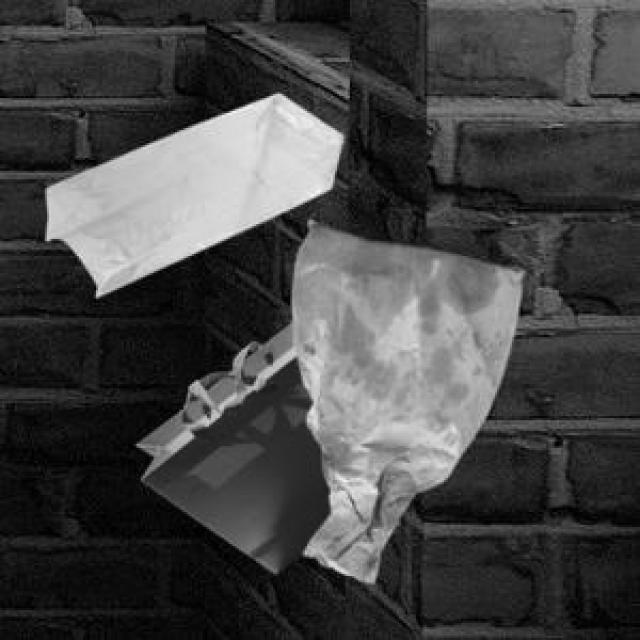paper: (288, 216, 521, 578), (132, 318, 329, 570)
